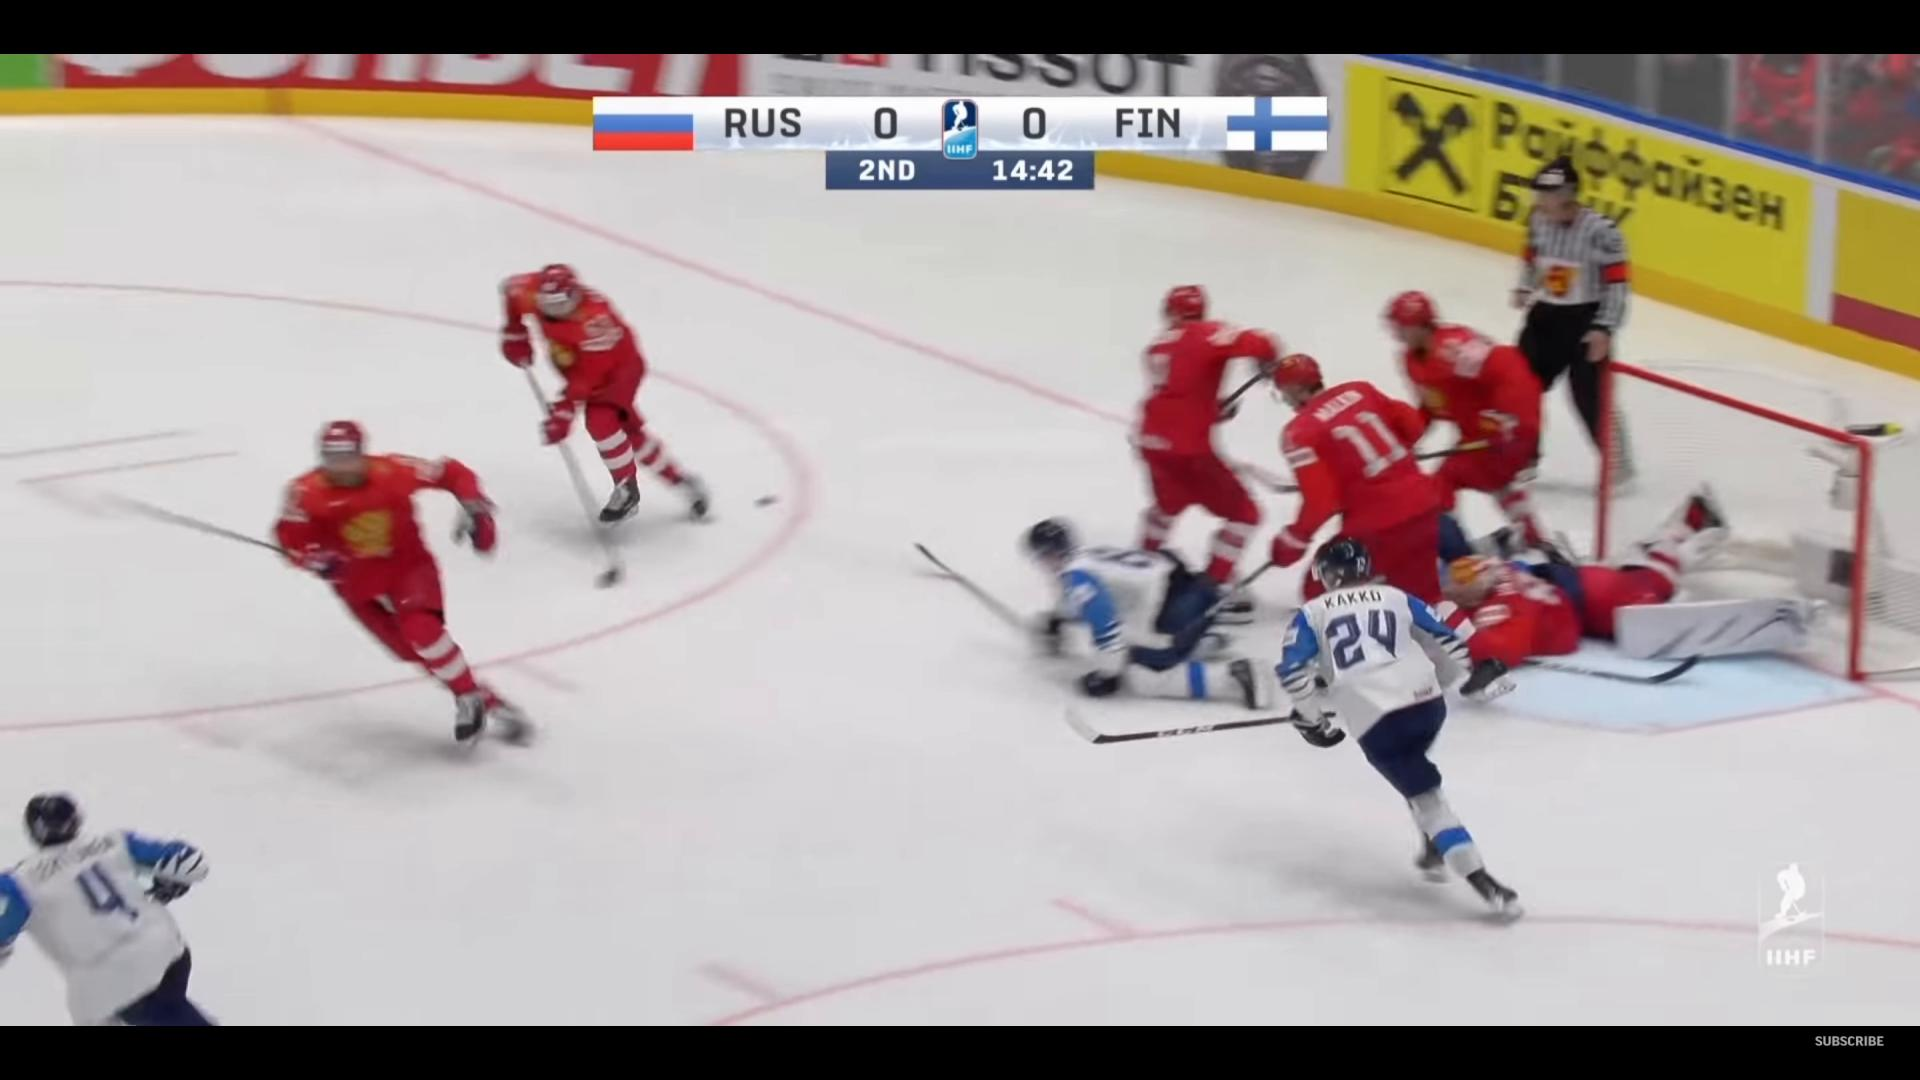puck: (752, 492, 777, 509)
